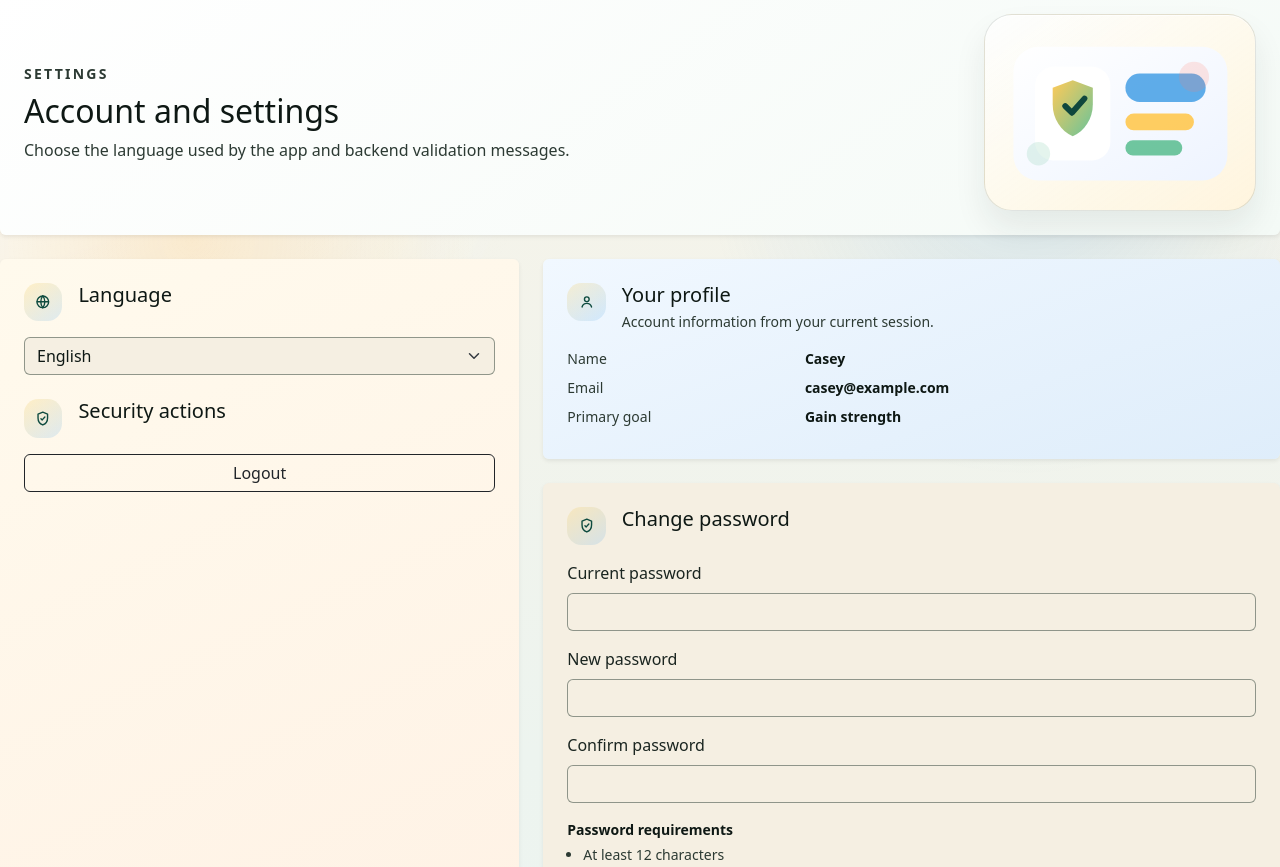
SettingsPage › submits a password change and clears the form after success
The width and height of the screenshot is (1280, 867).
Type "CurrentSecurePass1!" into the password field labelled "Current password".
click(912, 612); type("CurrentSecurePass1!")  # box [567,593,1256,631]
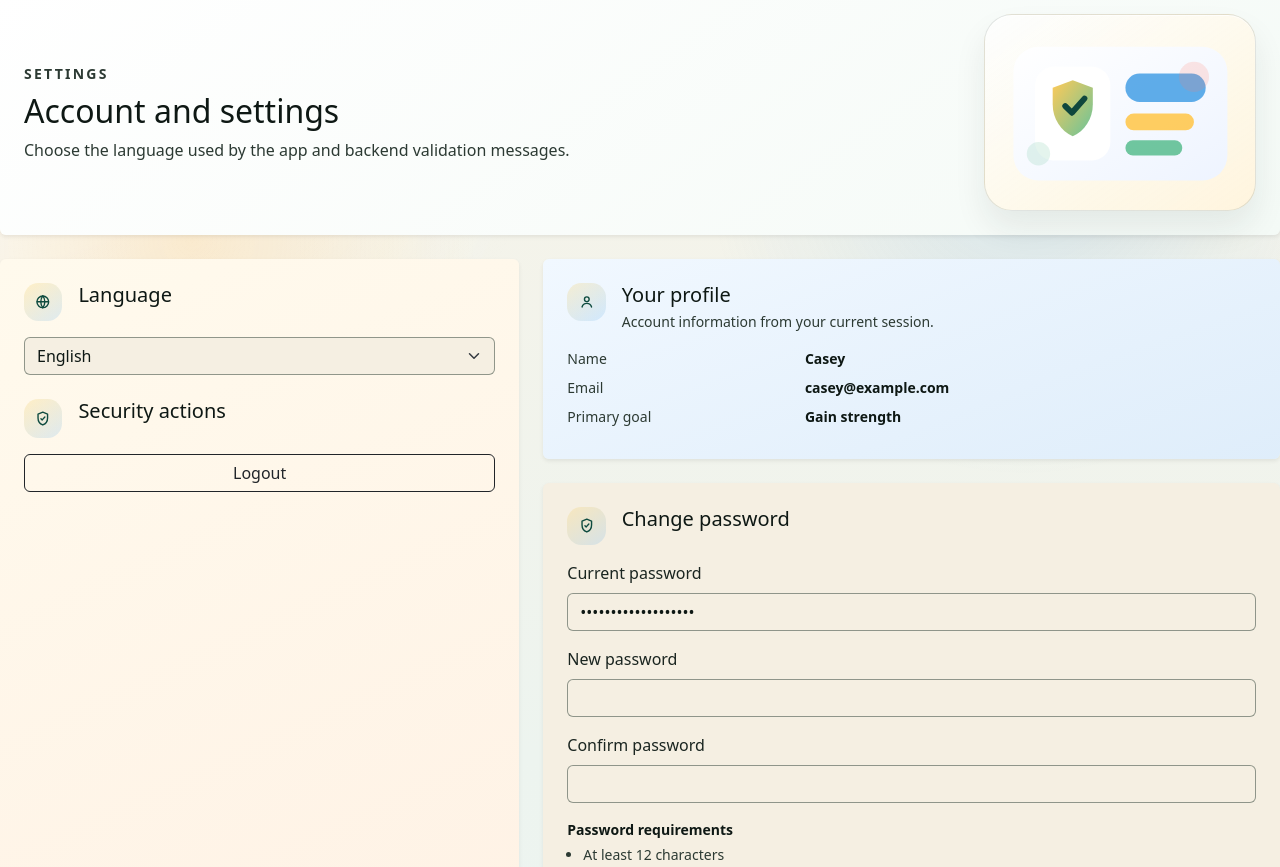
Type "NewSecurePass1!" into the password field labelled "New password".
click(912, 698); type("NewSecurePass1!")  # box [567,679,1256,717]
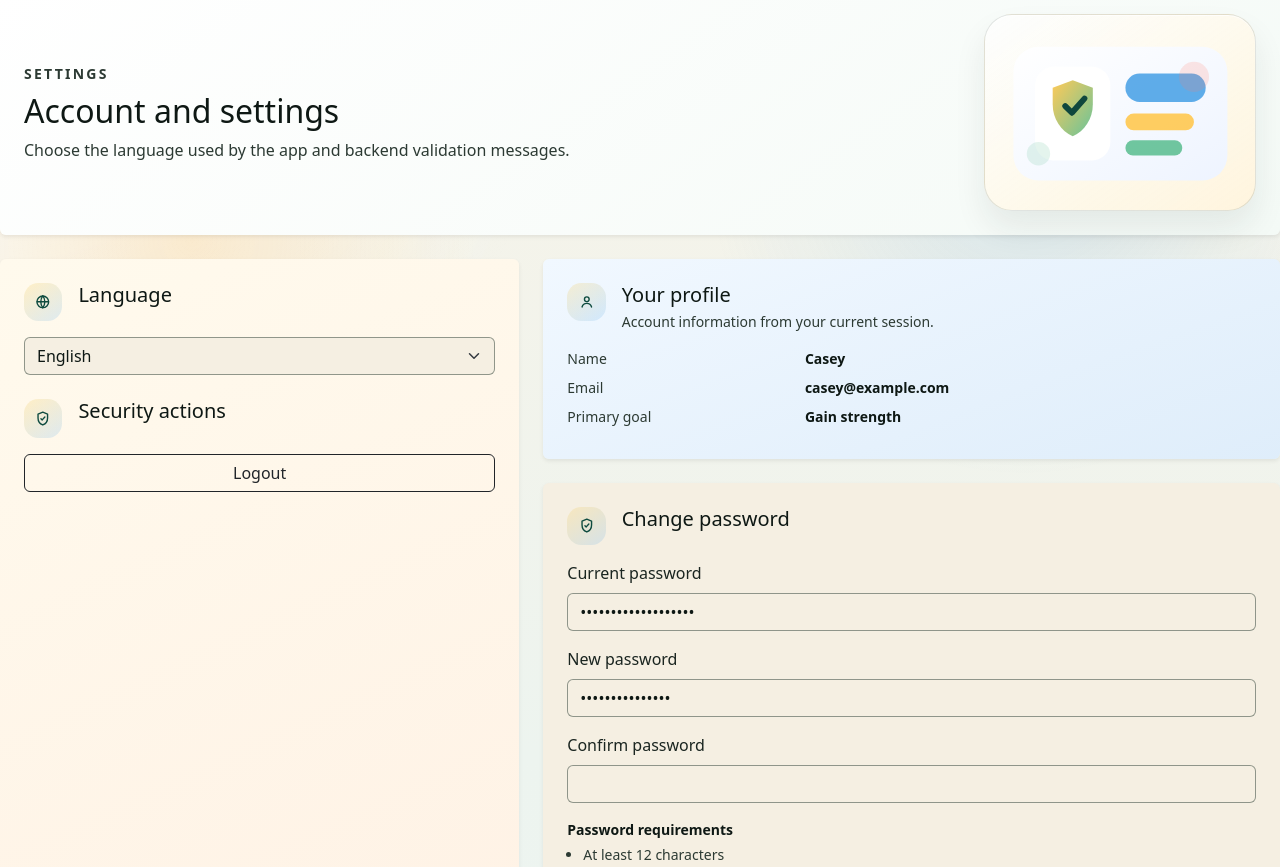
Type "NewSecurePass1!" into the password field labelled "Confirm password".
click(912, 784); type("NewSecurePass1!")  # box [567,765,1256,803]
(page scrolled)
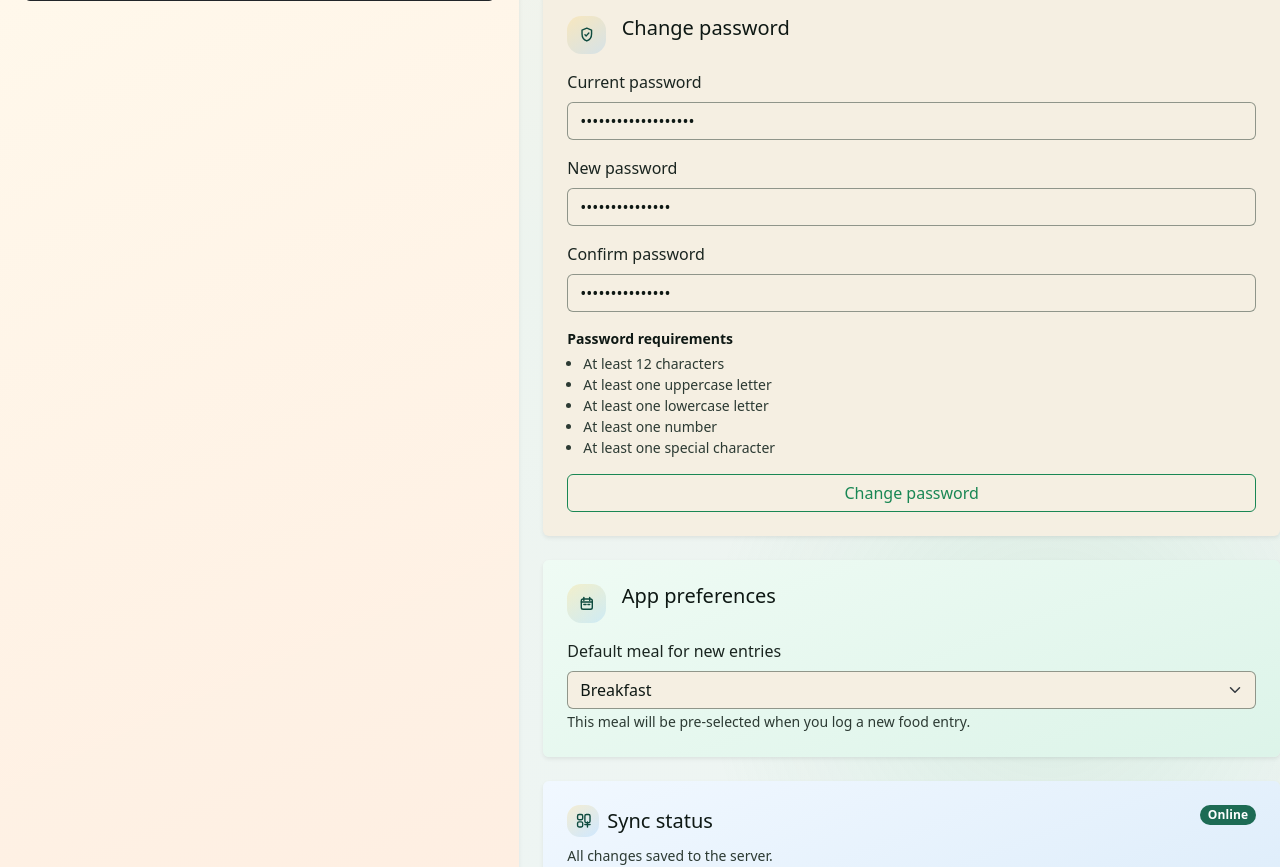
Click the button "Change password".
click(912, 493)  # box [567,474,1256,512]
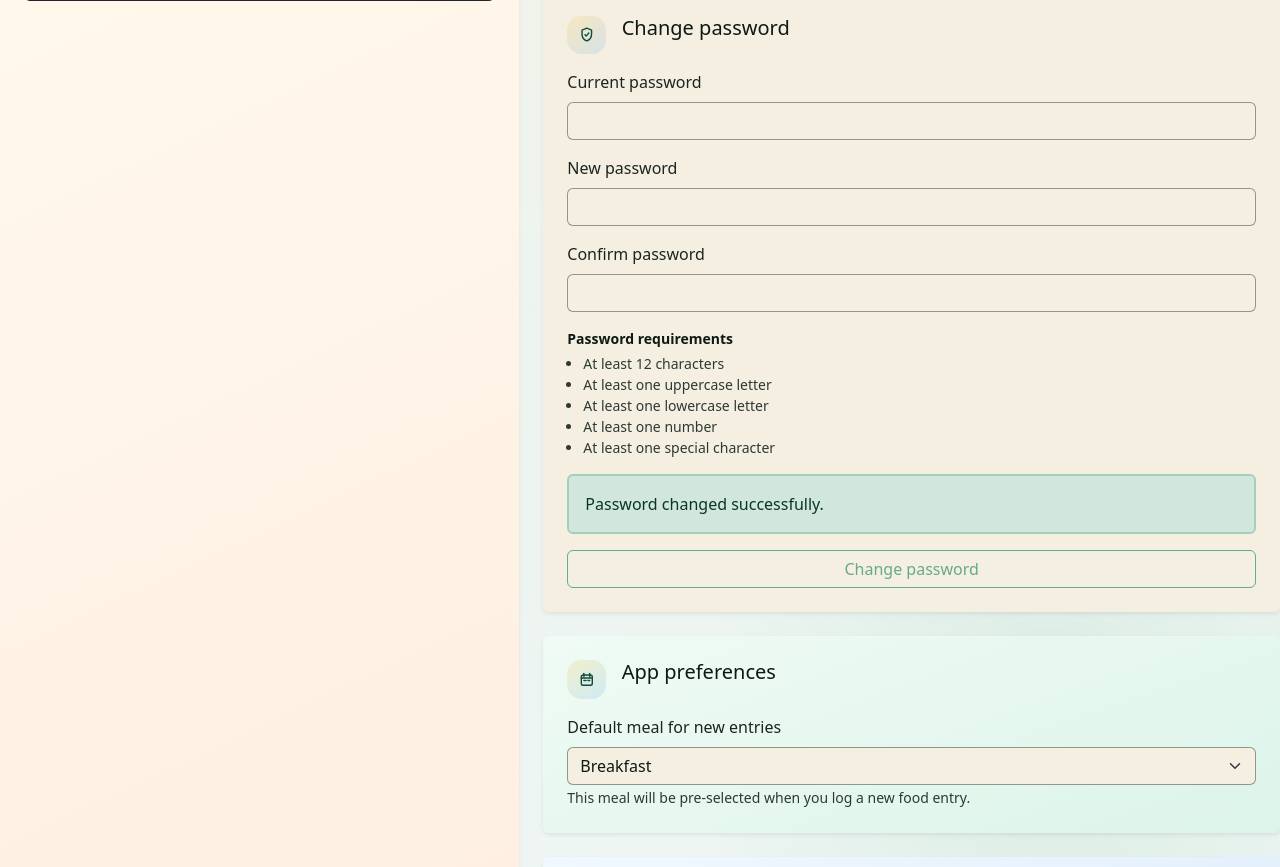
Now the text "Password changed successfully." is shown, box [567,474,1256,534]
Now the password field labelled "Current password" is empty, box [567,102,1256,140]
Now the password field labelled "New password" is empty, box [567,188,1256,226]
